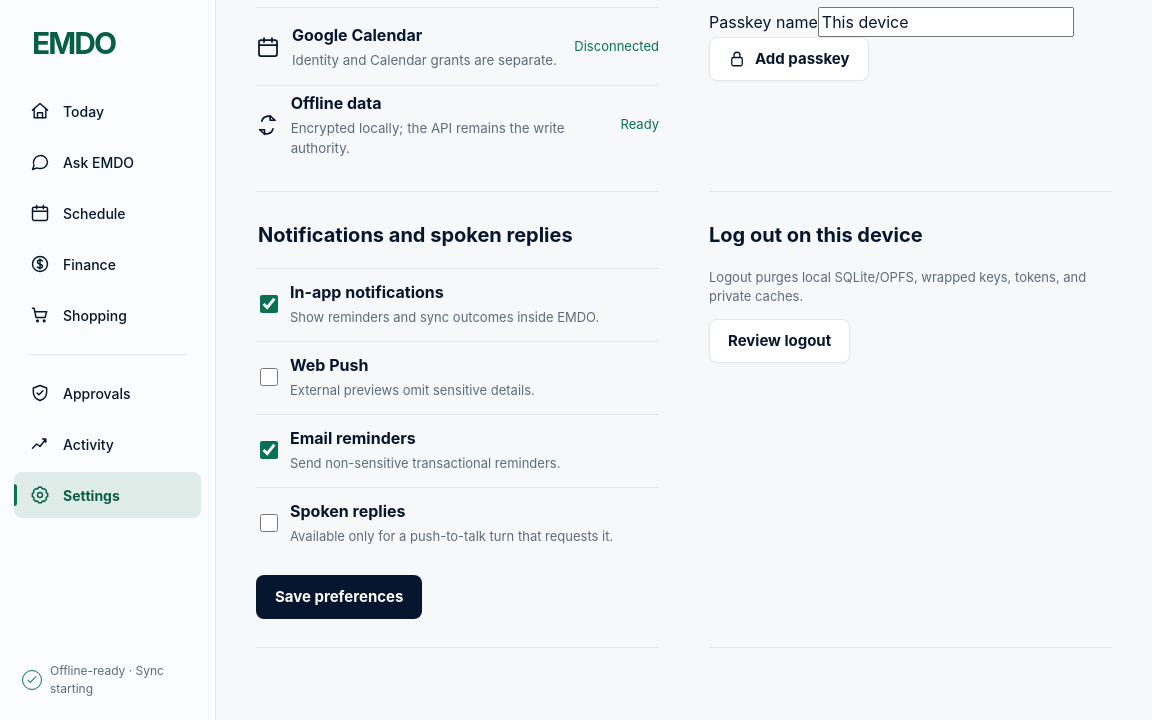
it: truthful experience routes › renders durable Settings and persists preferences with current CSRF
(page scrolled)
Step 1. Click the checkbox labelled "Web Push External previews omit sensitive details." → coordinates (269, 377), box [260,368,278,386]
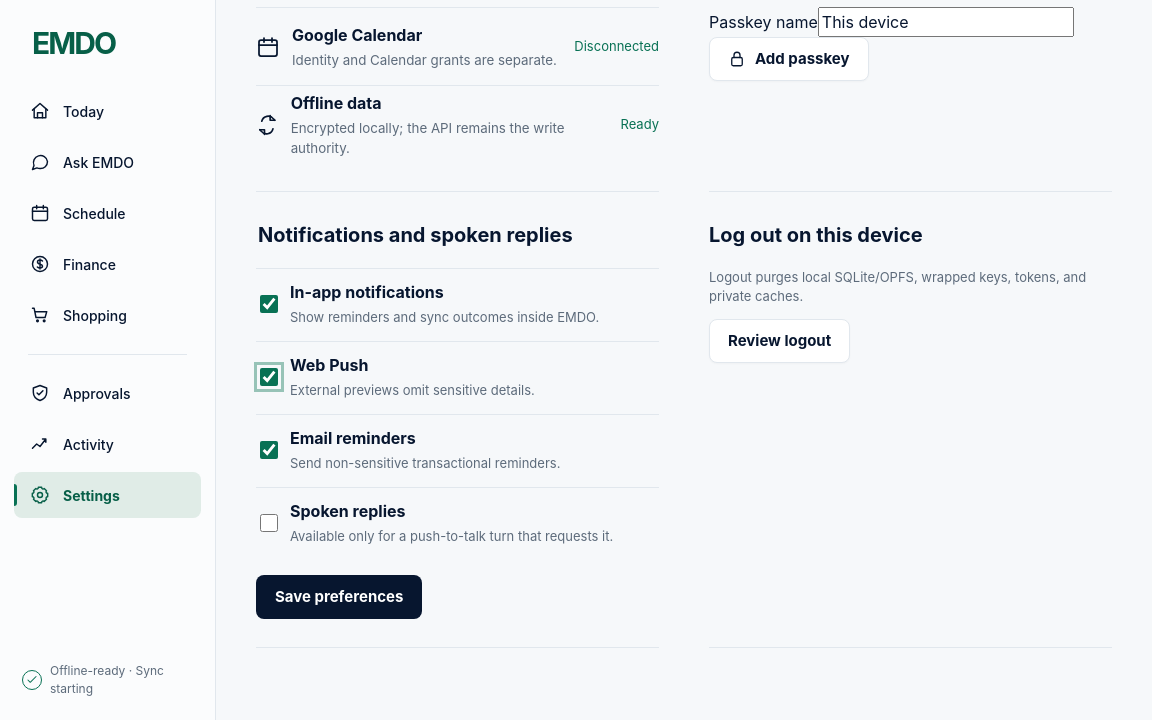
Step 2. Click the button "Save preferences" → coordinates (339, 597), box [256,575,422,619]
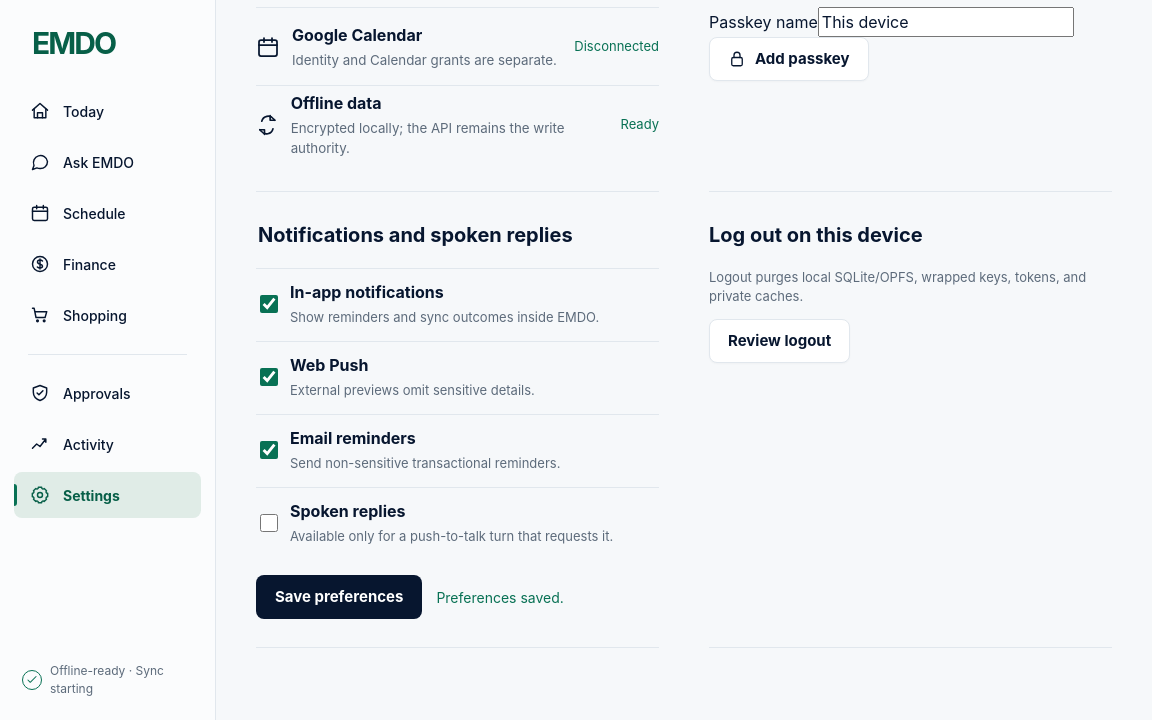
expect the text "Preferences saved." is shown: met, box [436,587,564,608]
